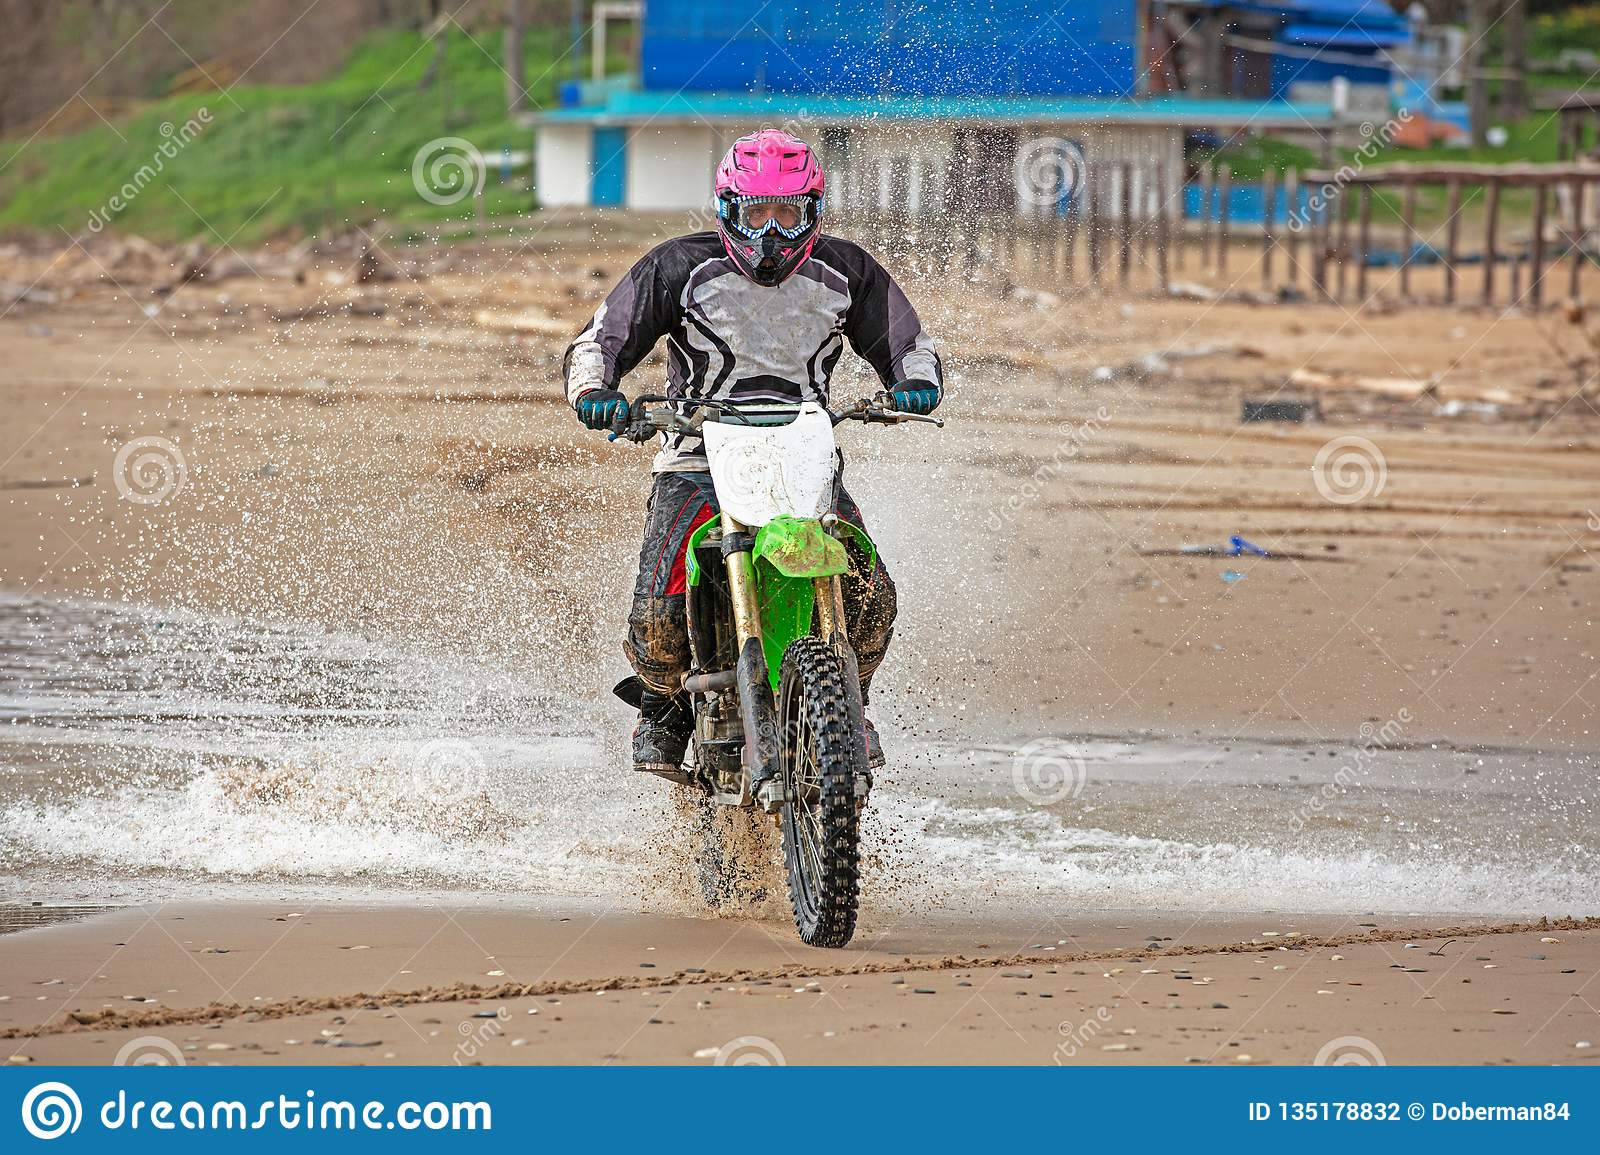helmet: (718, 135, 835, 274)
